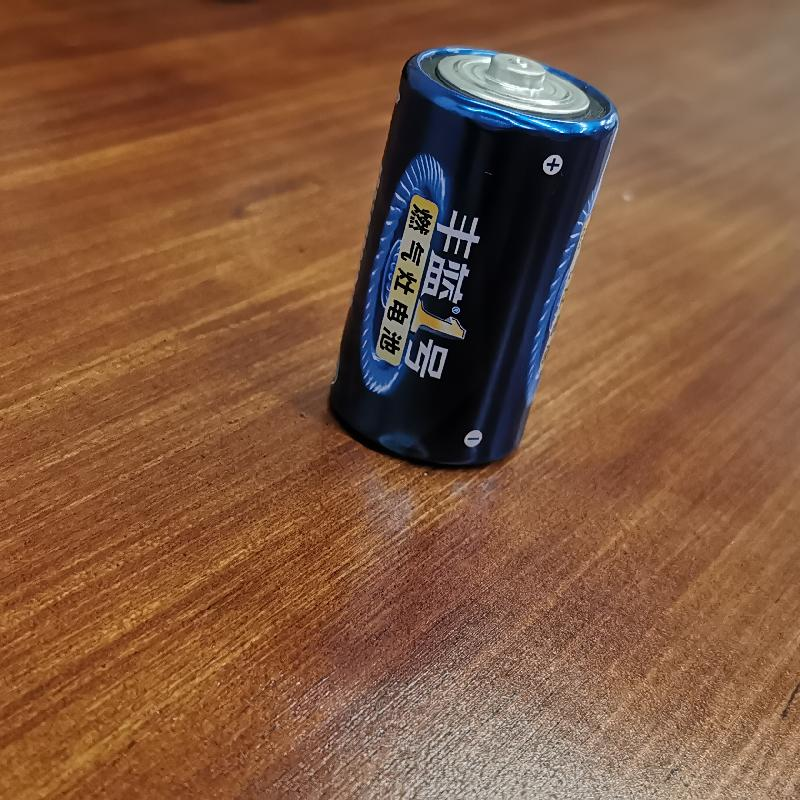battery: (324, 27, 619, 467)
